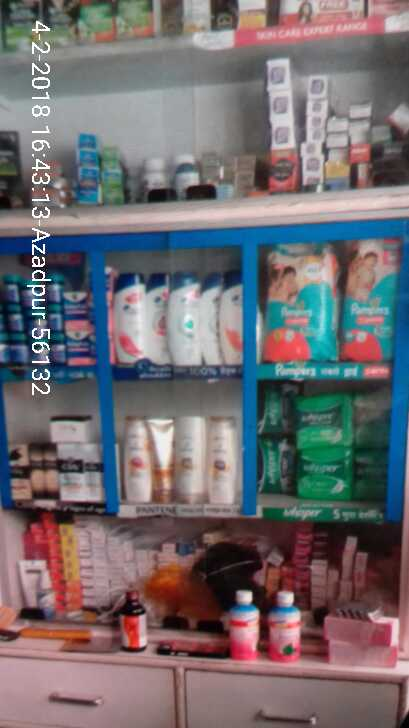vicks: (2, 265, 96, 364)
